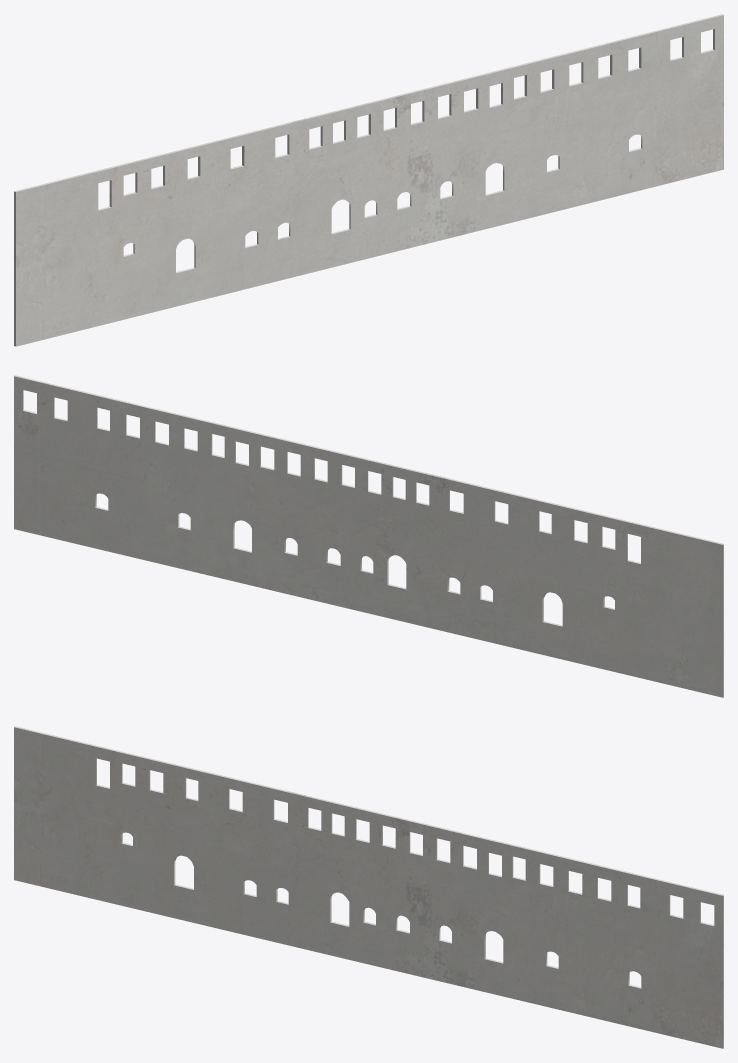
Rendered from Wall.FBX.
The picture shows the model from 3 angles, top to bottom: view 1: azimuth 30°, elevation 25°; view 2: azimuth 150°, elevation 25°; view 3: azimuth 330°, elevation 25°; orthographic projection.
Parts seen in each view (by area): view 1: Male Dungeon DONR; view 2: Male Dungeon DONR; view 3: Male Dungeon DONR.
Boxes of the visible parts, x1,y1,x2,y2 form: Male Dungeon DONR: (14, 14, 723, 346); Male Dungeon DONR: (14, 375, 723, 697); Male Dungeon DONR: (14, 726, 723, 1048).
Size of the model in its own units: 56.61 by 11.72 by 0.8034.
